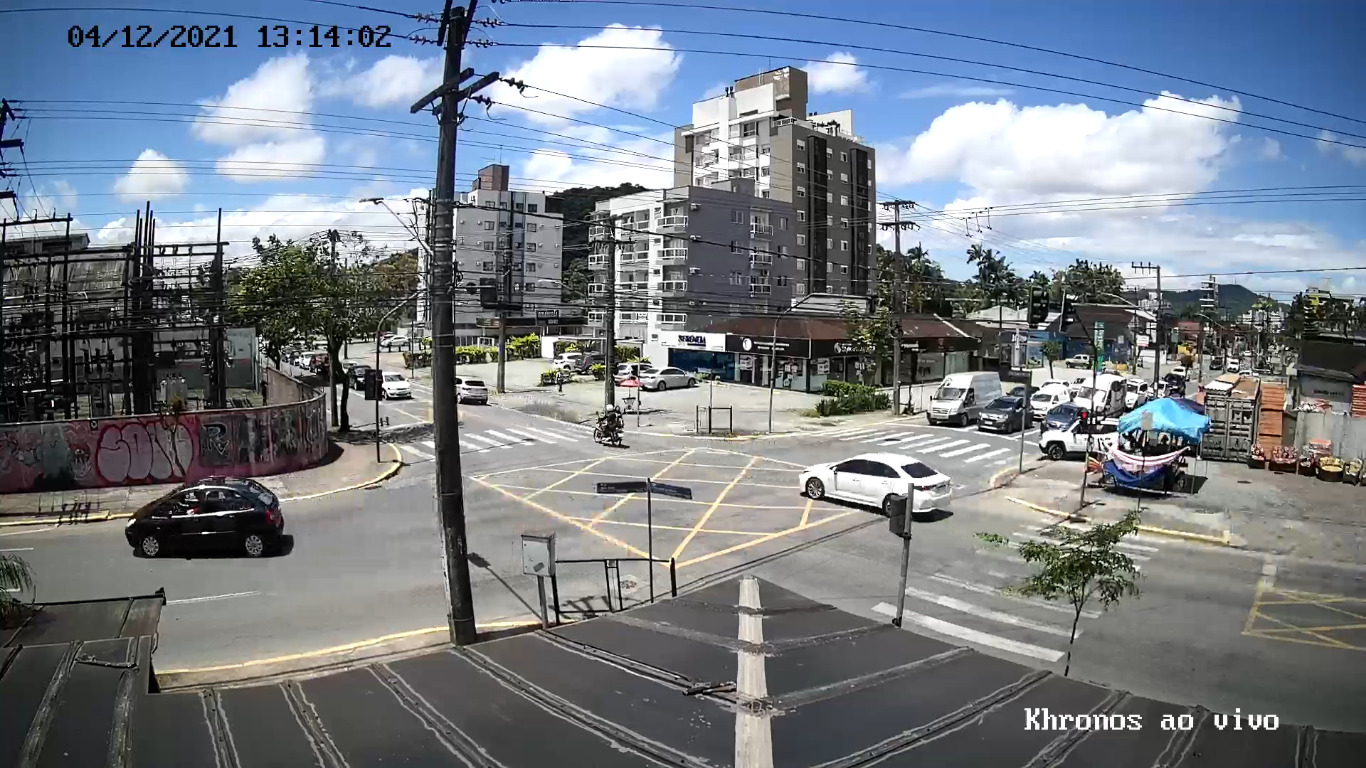car: (126, 475, 283, 559), (798, 452, 952, 521)
